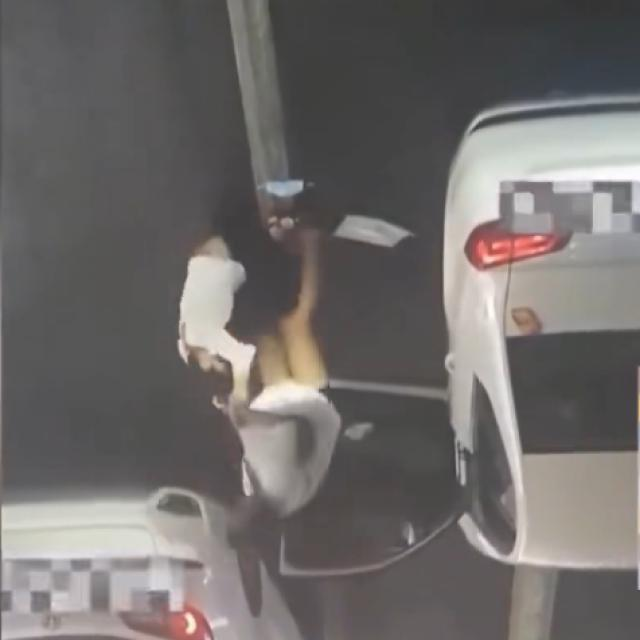fight: (168, 303, 308, 561)
